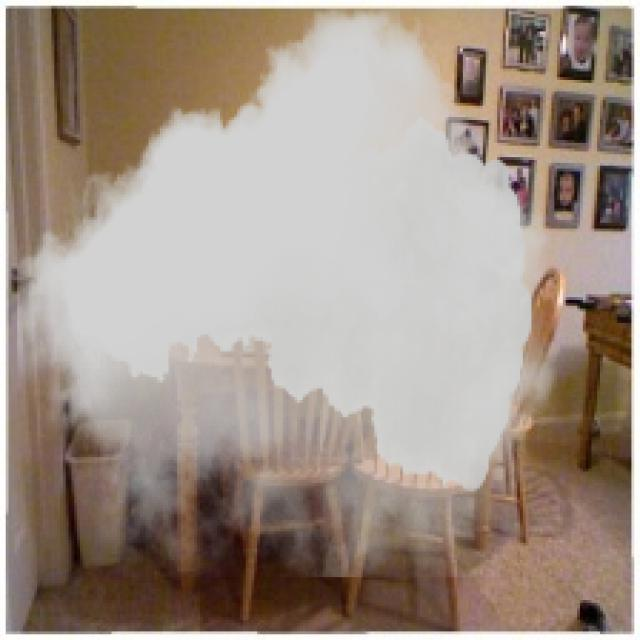smoke: (17, 9, 557, 577)
